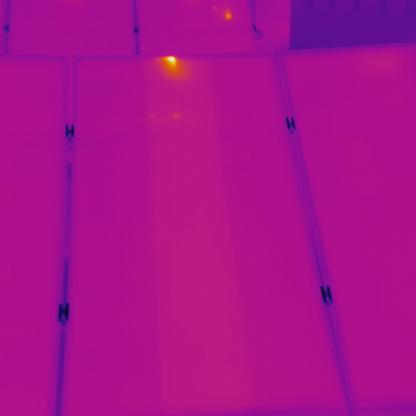hotspot: (160, 52, 184, 76)
